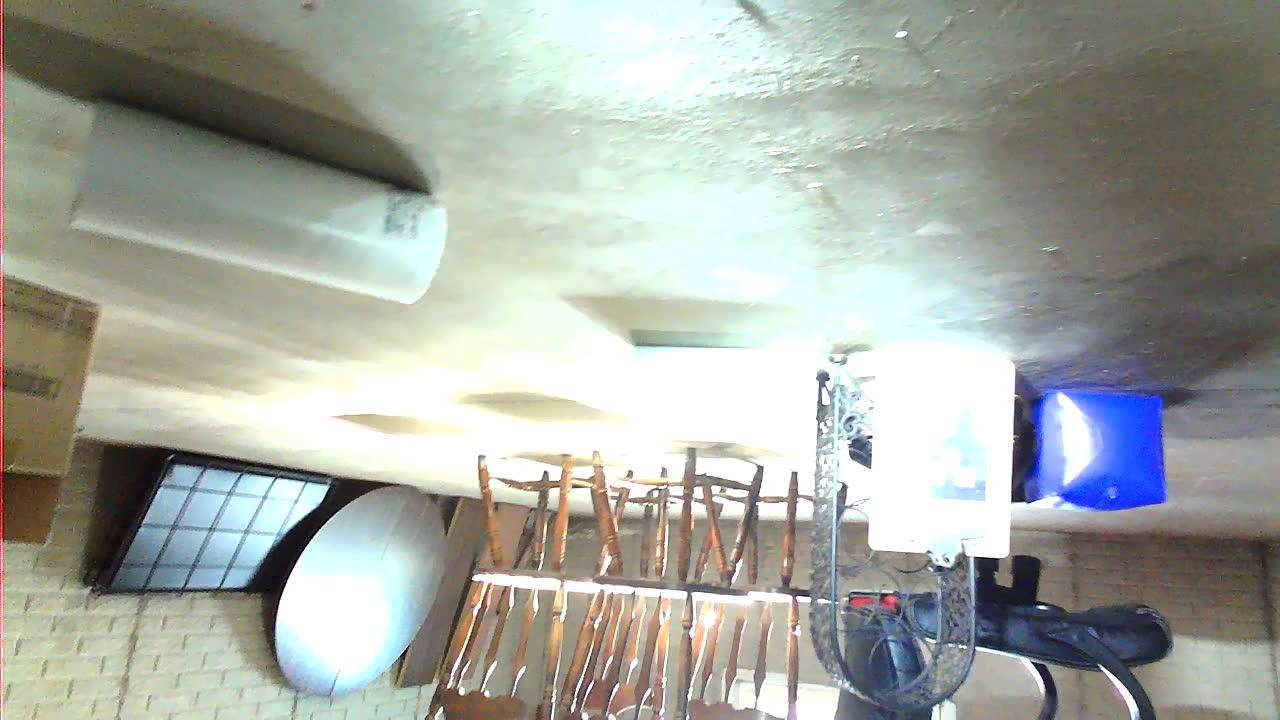coral: (830, 413, 1214, 627)
